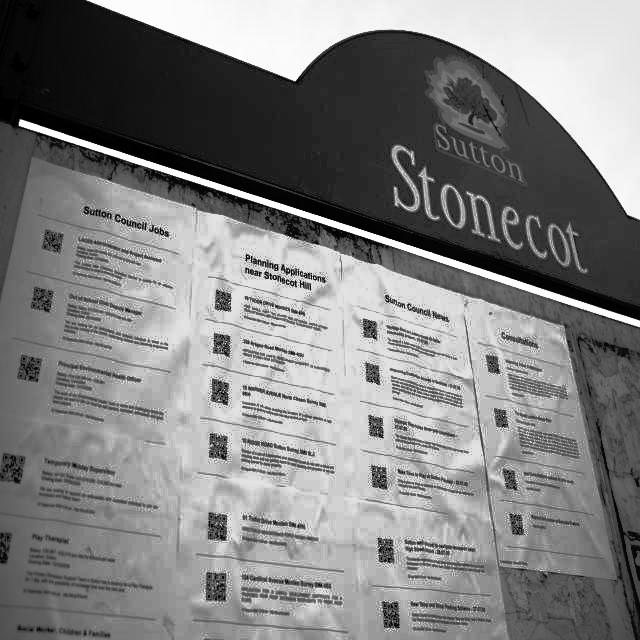qr_code: (0, 453, 26, 484), (17, 354, 42, 383), (206, 573, 226, 602), (31, 287, 53, 313), (208, 513, 227, 541), (42, 230, 64, 254), (382, 602, 400, 628), (209, 434, 227, 460), (212, 379, 229, 405), (213, 333, 230, 357), (378, 538, 394, 563), (371, 466, 387, 490), (0, 532, 12, 564), (215, 290, 231, 312), (369, 415, 384, 438), (510, 514, 525, 535), (366, 363, 380, 385), (503, 470, 517, 491), (363, 319, 377, 340), (494, 408, 508, 428), (486, 355, 500, 374)
